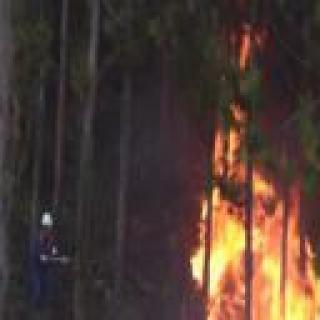fire: (138, 139, 320, 320)
